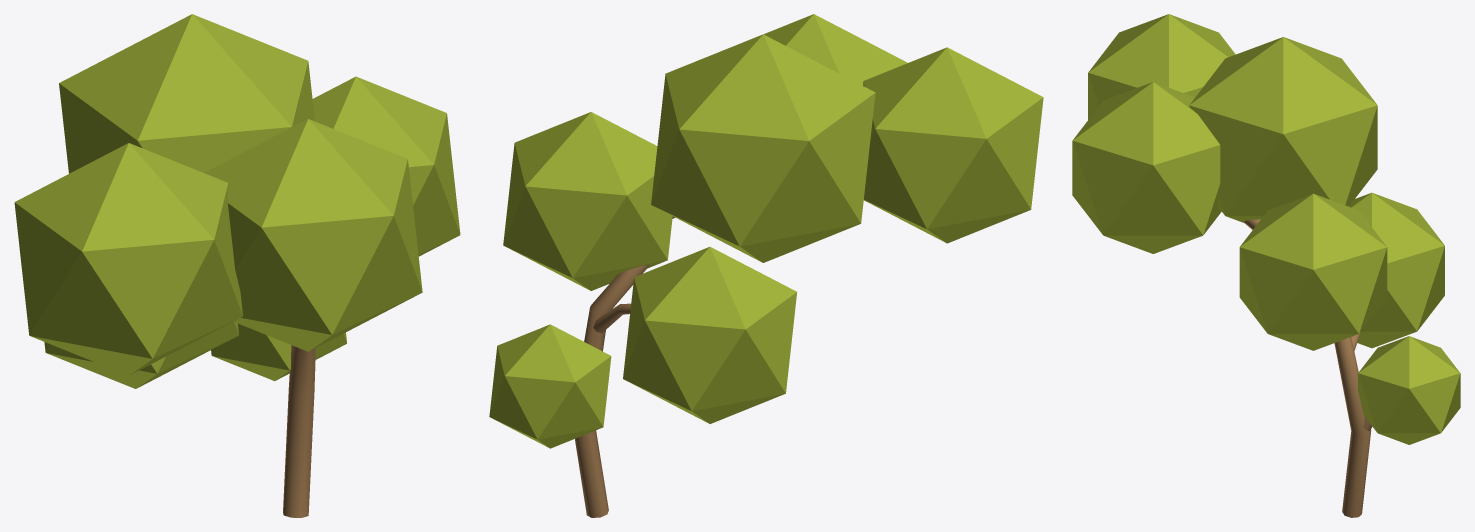
File: cherryTreesVisual.glb
3 views of the same model, side by side, from view 1: azimuth 30°, elevation 25°; view 2: azimuth 150°, elevation 25°; view 3: azimuth 270°, elevation 25° (orthographic). The views are drawn at different scales.
Parts seen in each view (by area): view 1: treeLeaves.014, treeLeaves.018, treeLeaves.013, treeLeaves.015, GN Instance, treeLeaves.017, treeLeaves.016; view 2: treeLeaves.013, treeLeaves.014, treeLeaves.016, treeLeaves.015, treeLeaves.017, treeLeaves.018, GN Instance; view 3: treeLeaves.013, treeLeaves.018, treeLeaves.015, treeLeaves.017, treeLeaves.016, treeLeaves.014, GN Instance.
Part boxes in pixels (x1,y1,x2,y2): treeLeaves.014: [14, 143, 242, 375]; treeLeaves.018: [204, 119, 422, 351]; treeLeaves.013: [59, 14, 314, 173]; treeLeaves.015: [312, 76, 460, 256]; GN Instance: [283, 345, 315, 517]; treeLeaves.017: [211, 323, 346, 381]; treeLeaves.016: [44, 321, 238, 388]; treeLeaves.013: [651, 34, 875, 262]; treeLeaves.014: [863, 47, 1043, 243]; treeLeaves.016: [623, 247, 796, 423]; treeLeaves.015: [503, 112, 672, 290]; treeLeaves.017: [489, 324, 611, 448]; treeLeaves.018: [764, 14, 907, 85]; GN Instance: [575, 216, 675, 517]; treeLeaves.013: [1189, 37, 1377, 222]; treeLeaves.018: [1072, 82, 1221, 253]; treeLeaves.015: [1239, 193, 1387, 350]; treeLeaves.017: [1358, 336, 1460, 444]; treeLeaves.016: [1349, 192, 1444, 348]; treeLeaves.014: [1088, 14, 1235, 119]; GN Instance: [1243, 219, 1372, 517].
Size of the model in its own units: 6.07 by 6.44 by 5.36.
